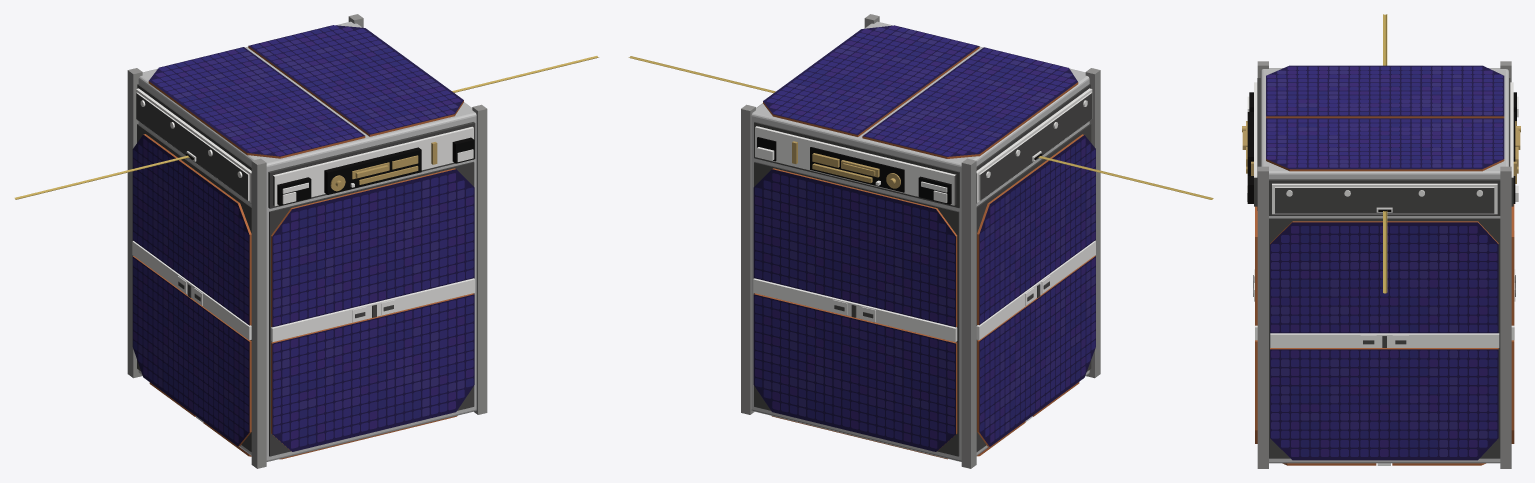
The model's file is cubesat1U.obj.
3 views of the same model, side by side, from view 1: azimuth 30°, elevation 25°; view 2: azimuth 150°, elevation 25°; view 3: azimuth 270°, elevation 25° (orthographic). The views are drawn at different scales.
Parts seen in each view (by area): view 1: obj16, obj7, obj3, obj5, obj4, obj14, obj6, obj15, obj13, obj2, obj8, obj1 (+4 smaller); view 2: obj16, obj7, obj3, obj5, obj4, obj14, obj6, obj15, obj13, obj2, obj8, obj1 (+4 smaller); view 3: obj16, obj7, obj3, obj13, obj5, obj4, obj6, obj14, obj15, obj2, obj8, obj1 (+4 smaller).
Part boxes in pixels (left/top/right/bottom): obj16: left=132, top=25, right=474, bottom=453; obj7: left=138, top=31, right=464, bottom=437; obj3: left=138, top=29, right=464, bottom=441; obj5: left=133, top=27, right=473, bottom=448; obj4: left=133, top=25, right=473, bottom=432; obj14: left=127, top=14, right=487, bottom=468; obj6: left=133, top=27, right=473, bottom=446; obj15: left=132, top=88, right=474, bottom=422; obj13: left=136, top=84, right=475, bottom=456; obj2: left=138, top=40, right=464, bottom=416; obj8: left=138, top=21, right=476, bottom=461; obj1: left=138, top=39, right=464, bottom=424; obj16: left=753, top=25, right=1095, bottom=451; obj7: left=763, top=33, right=1095, bottom=437; obj3: left=763, top=27, right=1095, bottom=441; obj5: left=755, top=25, right=1095, bottom=448; obj4: left=754, top=29, right=1095, bottom=438; obj14: left=741, top=14, right=1100, bottom=468; obj6: left=755, top=41, right=1085, bottom=446; obj15: left=753, top=88, right=1095, bottom=421; obj13: left=754, top=84, right=1091, bottom=456; obj2: left=763, top=27, right=1095, bottom=431; obj8: left=751, top=21, right=1089, bottom=461; obj1: left=763, top=40, right=1095, bottom=424; obj16: left=1266, top=65, right=1504, bottom=460; obj7: left=1267, top=66, right=1492, bottom=456; obj3: left=1267, top=66, right=1492, bottom=456; obj13: left=1253, top=78, right=1515, bottom=458; obj5: left=1267, top=66, right=1502, bottom=456; obj4: left=1267, top=66, right=1502, bottom=456; obj6: left=1288, top=66, right=1502, bottom=456; obj14: left=1257, top=61, right=1511, bottom=468; obj15: left=1247, top=82, right=1518, bottom=465; obj2: left=1267, top=66, right=1492, bottom=456; obj8: left=1260, top=68, right=1508, bottom=463; obj1: left=1267, top=79, right=1492, bottom=429.
Size of the model in its own units: 5.19 by 2.6 by 2.2.
